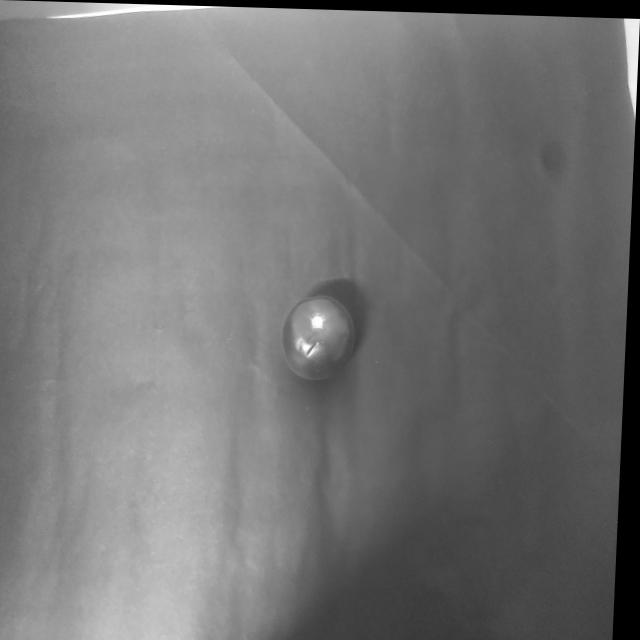kirmizi: (273, 281, 389, 393)
